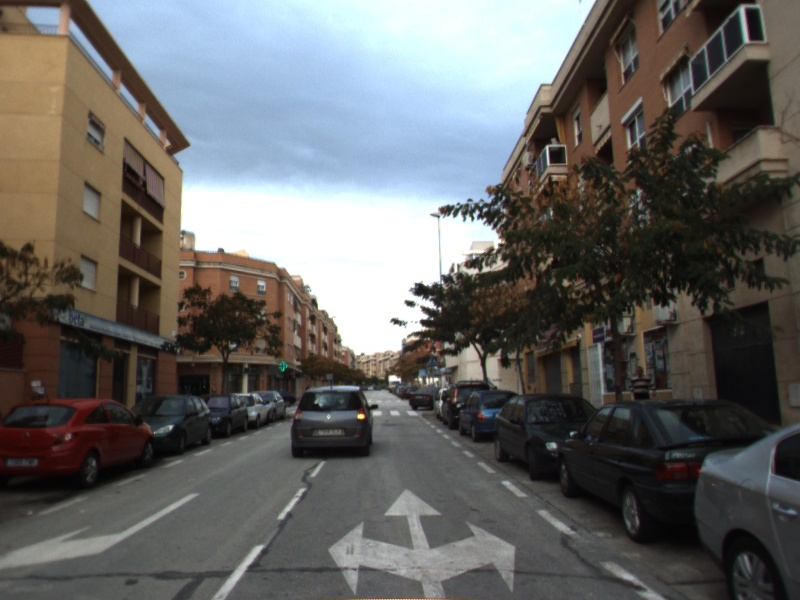STRAIGHT_LEFT_RIGHT: (326, 484, 518, 600)
